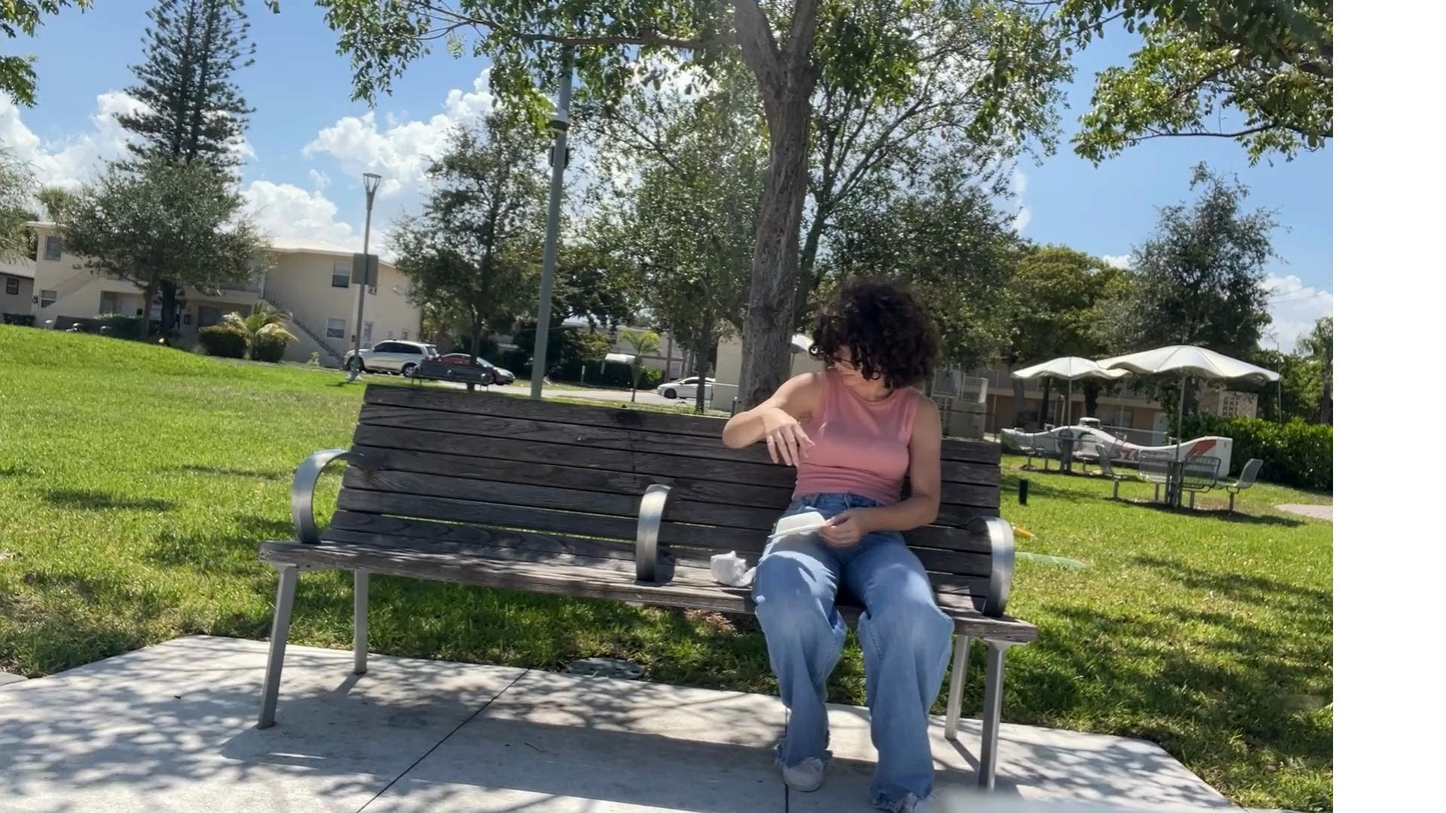Trash: (705, 547, 759, 593)
